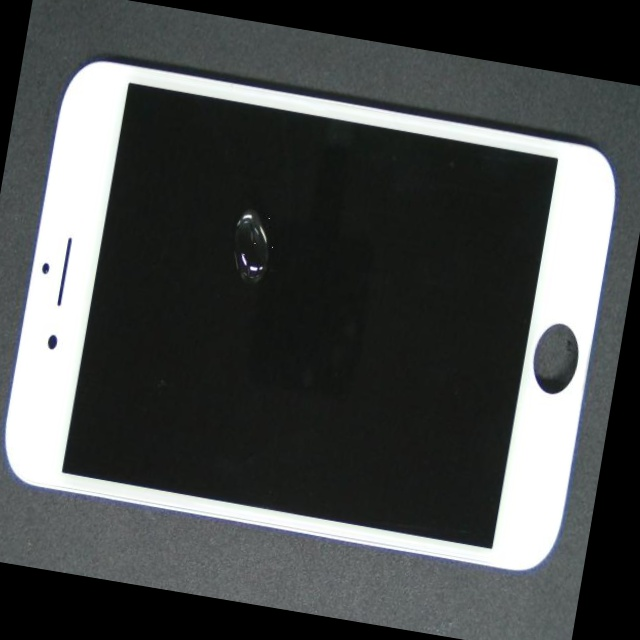oil: (134, 129, 410, 349)
